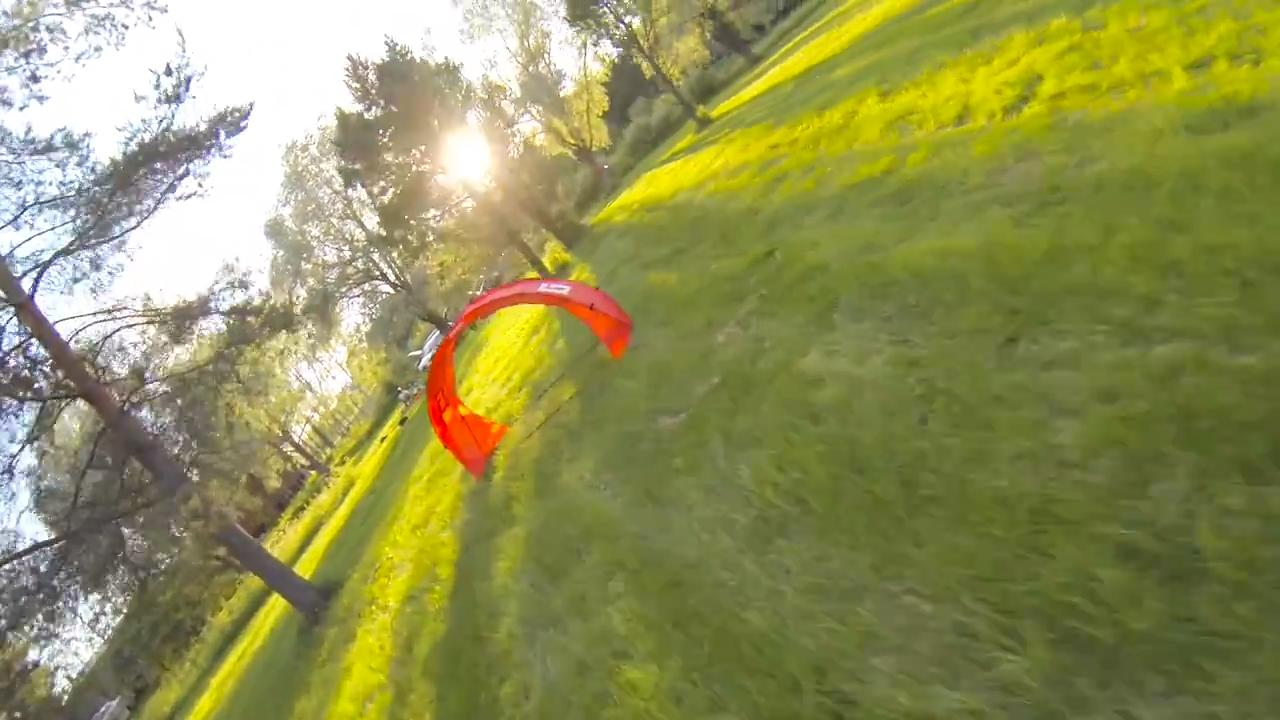gate: (422, 277, 636, 479)
